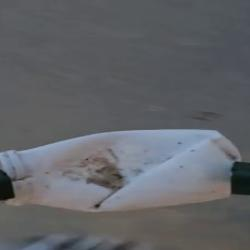Plastic: (0, 129, 242, 212)
